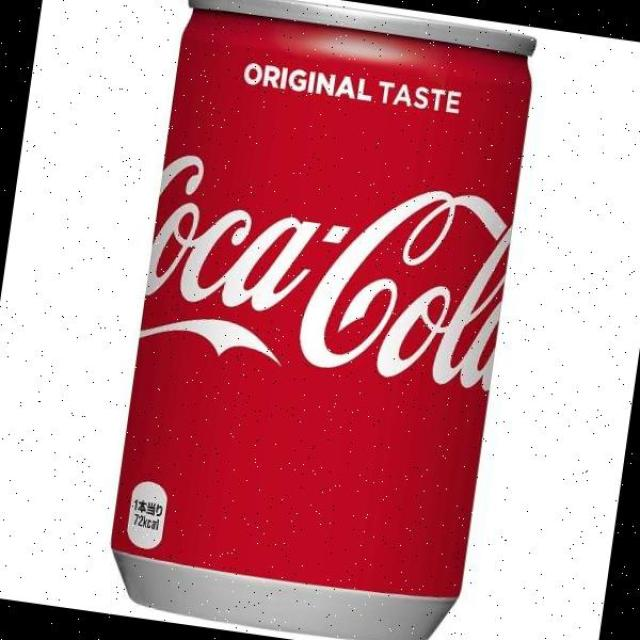coca-cola: (97, 0, 547, 640)
